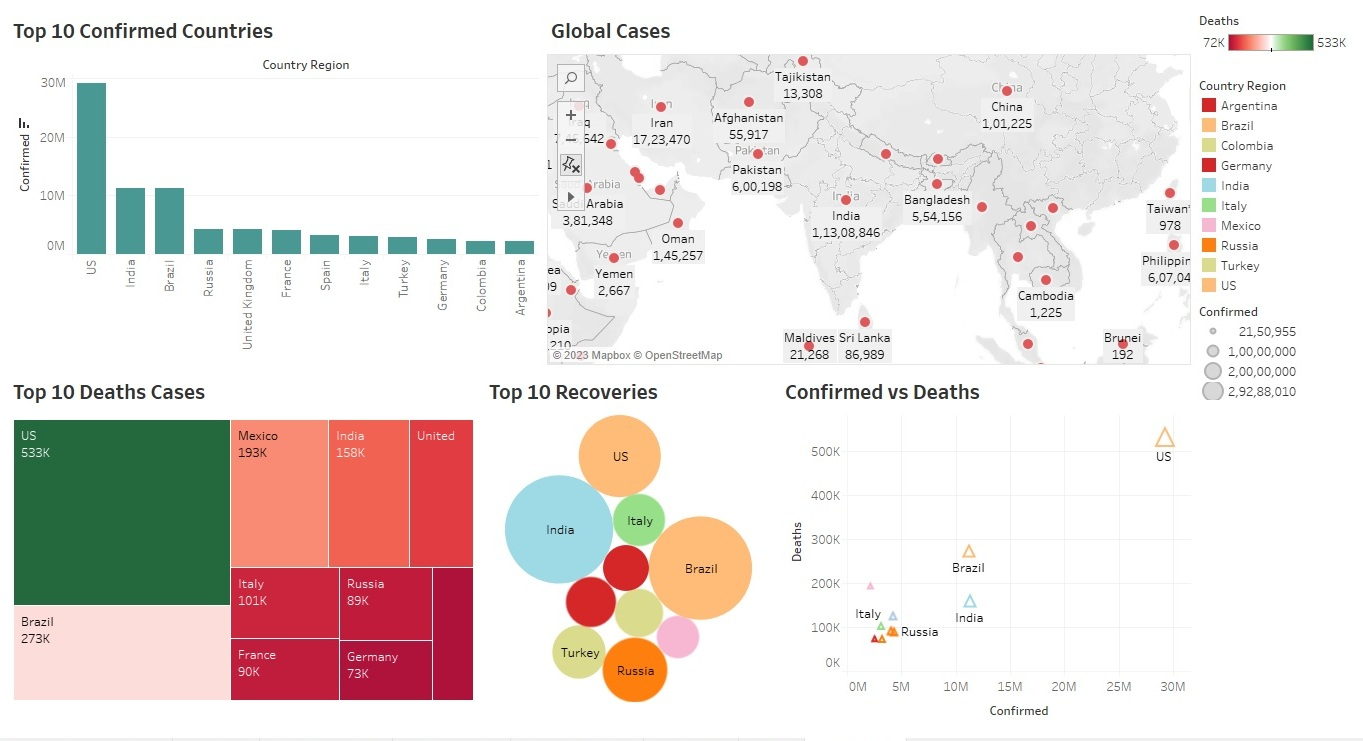

This screenshot's page, from the dashboard's own definition file:
{"tool":"tableau","page":{"name":"Dashboard 1","canvas":[1000,1000],"units":"permille","ordinal":0},"visuals":[{"type":"worksheet","title":"Top 10 Confirmed Countries","mark":"Automatic","rows":["Confirmed"],"cols":["Country Region"],"box":[6.9,13.5,383.5,486.5]},{"type":"worksheet","title":"Global Cases","mark":"Automatic","box":[390.4,13.5,464.1,486.5]},{"type":"legend","title":"Top 10 Deaths Cases","param":"[federated.1jntoaz1wg6jpv1fjf6391wdh0ra].[sum:Deaths:qk]","box":[854.5,13.5,138.5,109.8]},{"type":"legend","title":"Top 10 Recoveries","param":"[federated.1jntoaz1wg6jpv1fjf6391wdh0ra].[none:Country Region:nk]","box":[854.5,123.3,138.5,381.8]},{"type":"worksheet","title":"Top 10 Deaths Cases","mark":"Automatic","box":[6.9,500,339.3,486.5]},{"type":"worksheet","title":"Top 10 Recoveries","mark":"Circle","box":[346.3,500,210.4,486.5]},{"type":"worksheet","title":"Confirmed vs Deaths","mark":"Automatic","rows":["Deaths"],"cols":["Confirmed"],"box":[556.7,500,297.9,486.5]},{"type":"legend","title":"Confirmed vs Deaths","param":"[federated.1jntoaz1wg6jpv1fjf6391wdh0ra].[sum:Confirmed:qk]","box":[854.5,505.1,138.5,179.1]}]}

Visuals, with their boxes on the dashboard's canvas, which has no fixed pixel size, in thousandths of its width and height (x1, y1, x2, y2). These are canvas units, not pixel positions in the 1363x741 screenshot, which may show the page scaled, cropped or inside an application window:
"Top 10 Confirmed Countries" worksheet: 7 14 390 500
"Global Cases" worksheet: 390 14 854 500
"Top 10 Deaths Cases" legend: 854 14 993 123
"Top 10 Recoveries" legend: 854 123 993 505
"Top 10 Deaths Cases" worksheet: 7 500 346 986
"Top 10 Recoveries" worksheet (Circle marks): 346 500 557 986
"Confirmed vs Deaths" worksheet: 557 500 855 986
"Confirmed vs Deaths" legend: 854 505 993 684
